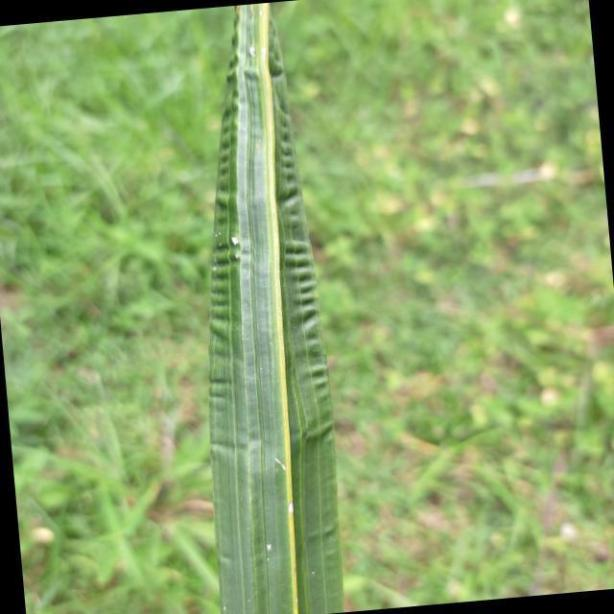Boron: (202, 12, 348, 614)
